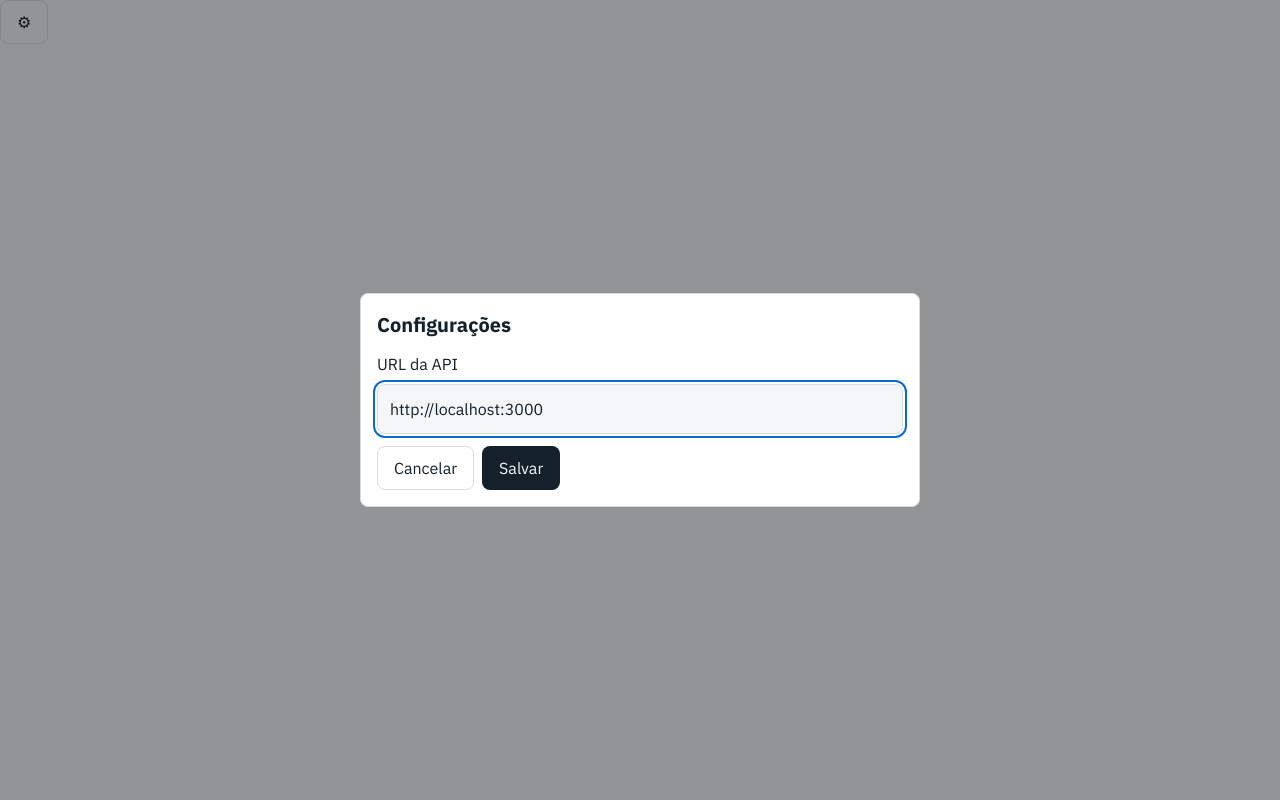
SettingsGear › shows field error and does not save invalid URL
Replace the text in the field labelled "URL da API" with "not-a-url" at coordinates (640, 409), box [377,384,903,434]
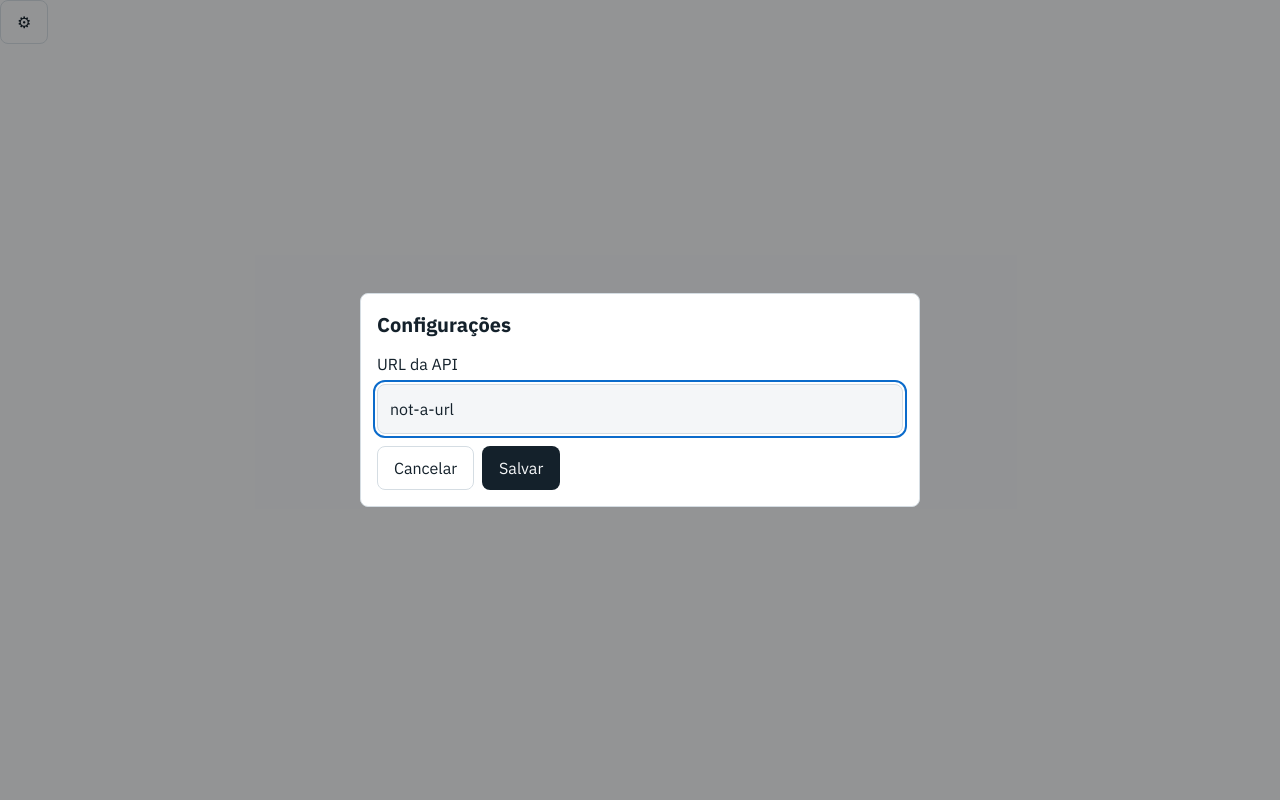
Click the button "Salvar" at coordinates (521, 468), box [482,446,560,490]
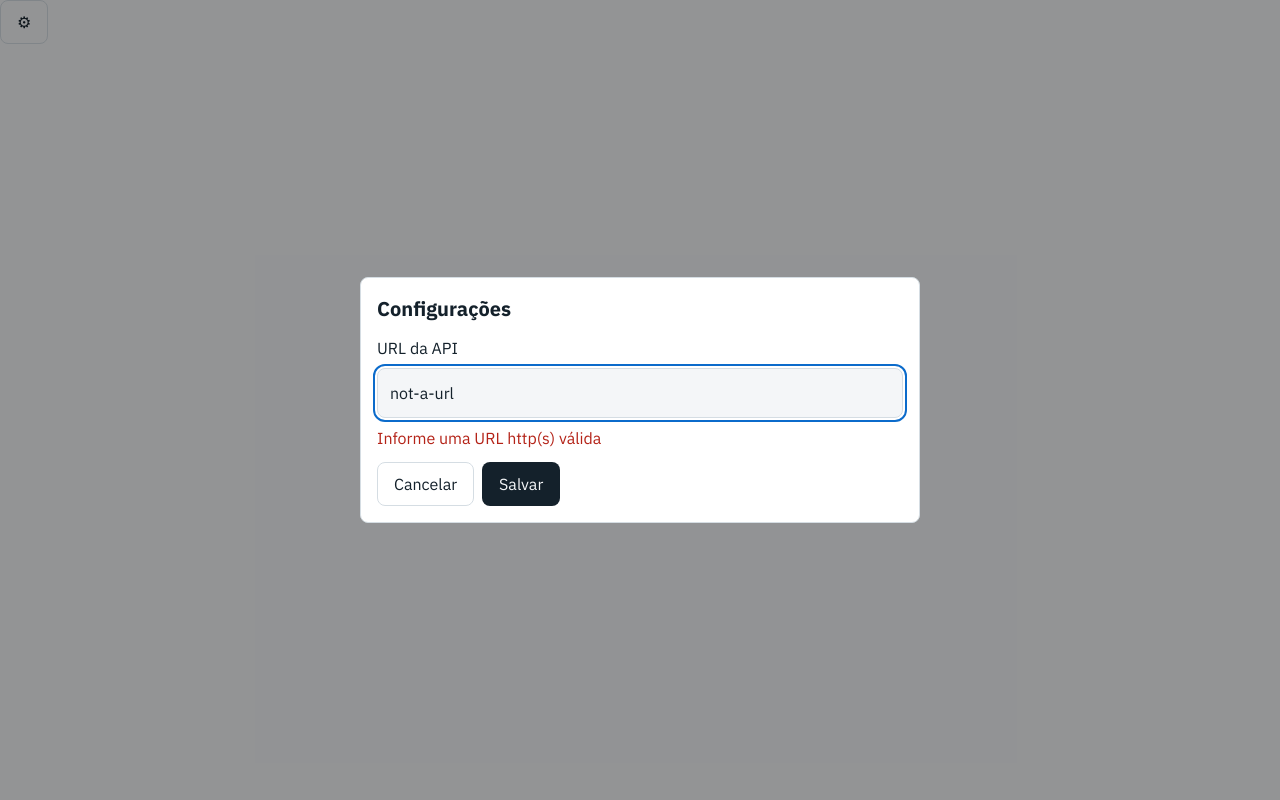
expect the message shows "URL": met, box [377,428,601,448]
